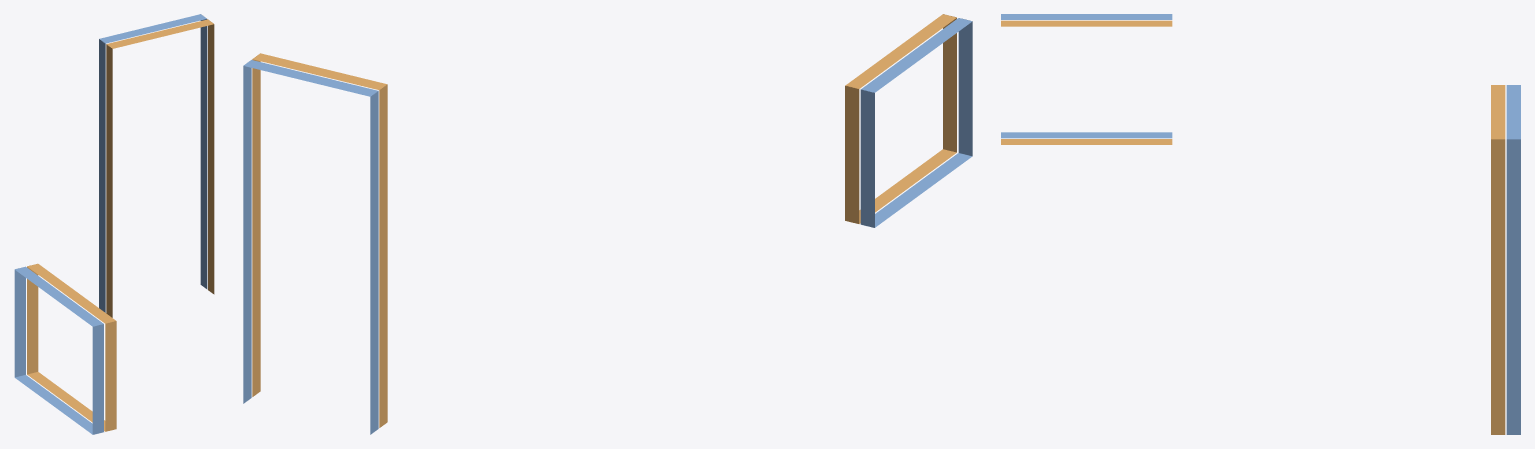
File: stage-7.glb
3 views of the same model, side by side, from view 1: azimuth 30°, elevation 25°; view 2: azimuth 150°, elevation 25°; view 3: azimuth 270°, elevation 25° (orthographic). The views are drawn at different scales.
Parts seen in each view (by area): view 1: Geom3D (×2); view 2: Geom3D (×2); view 3: Geom3D (×2).
Part boxes in pixels (x1,y1,x2,y2): Geom3D (×2): (14, 14, 214, 434); Geom3D (×2): (243, 14, 972, 434); Geom3D (×2): (1001, 14, 1520, 434).
Size of the model in its own units: 3.06 by 2.29 by 3.64.
